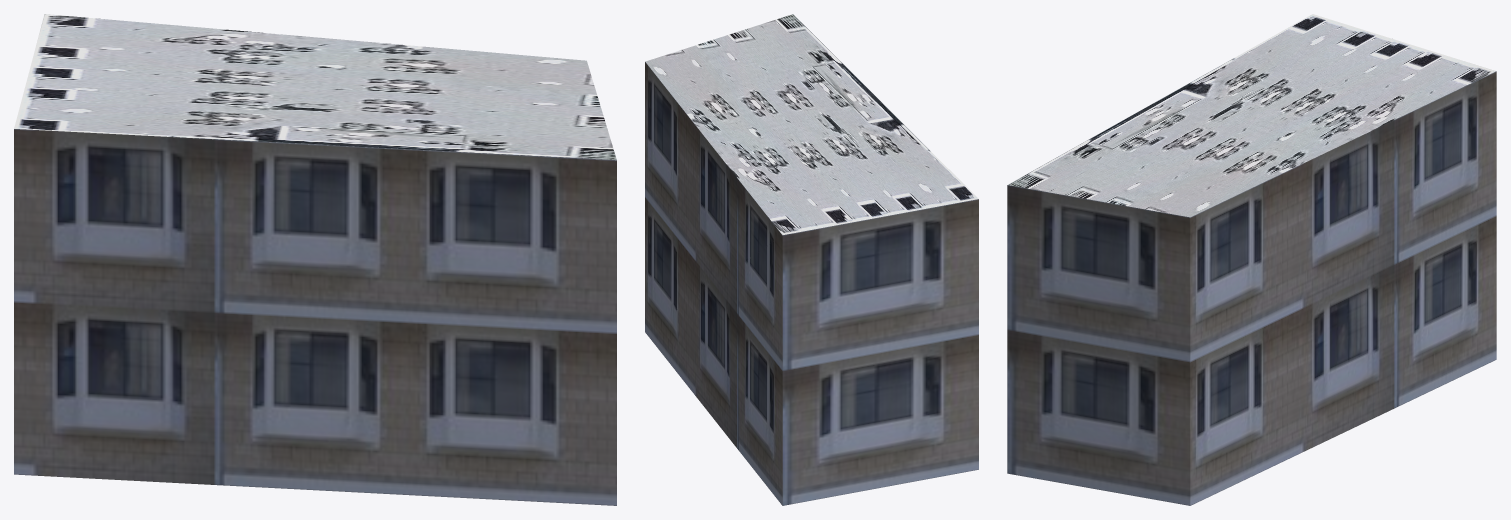
File: ResTex__2262.fbx
The picture shows the model from 3 angles, left to right: view 1: azimuth 30°, elevation 25°; view 2: azimuth 150°, elevation 25°; view 3: azimuth 270°, elevation 25°; orthographic projection. The views are drawn at different scales.
Parts seen in each view (by area): view 1: CityEngineMaterial_3_m, CityEngineMaterial_8_m; view 2: CityEngineMaterial_3_m, CityEngineMaterial_8_m; view 3: CityEngineMaterial_3_m, CityEngineMaterial_8_m.
Boxes of the visible parts, bbox=[...] form: CityEngineMaterial_3_m: bbox=[14, 129, 616, 505]; CityEngineMaterial_8_m: bbox=[14, 14, 616, 160]; CityEngineMaterial_3_m: bbox=[645, 62, 978, 505]; CityEngineMaterial_8_m: bbox=[645, 14, 978, 235]; CityEngineMaterial_3_m: bbox=[1007, 71, 1496, 505]; CityEngineMaterial_8_m: bbox=[1008, 14, 1495, 217].
Size of the model in its own units: 9.07 by 6 by 9.22.
Materials: 2 (2 with a texture image).
